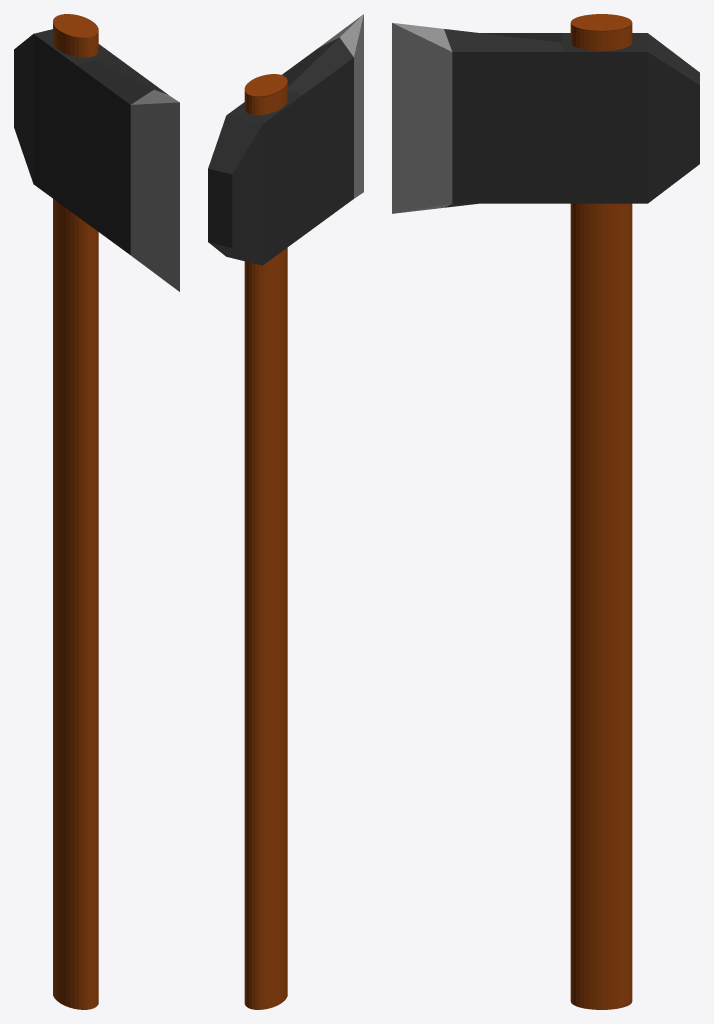
The model's file is AXE.fbx.
The picture shows the model from 3 angles, left to right: view 1: azimuth 30°, elevation 25°; view 2: azimuth 150°, elevation 25°; view 3: azimuth 270°, elevation 25°; orthographic projection. The views are drawn at different scales.
Parts seen in each view (by area): view 1: Cube.001, Cube, Cube.002; view 2: Cube.001, Cube, Cube.002; view 3: Cube.001, Cube, Cube.002.
Boxes of the visible parts, <box> form: Cube.001: <box>53,14,98,1009</box>; Cube: <box>14,29,167,254</box>; Cube.002: <box>130,89,179,291</box>; Cube.001: <box>244,74,287,1009</box>; Cube: <box>208,37,353,265</box>; Cube.002: <box>319,14,363,198</box>; Cube.001: <box>570,14,632,1009</box>; Cube: <box>444,29,699,207</box>; Cube.002: <box>392,23,452,213</box>.
Bounding box in the file's own units: 20.66 × 495 × 141.
